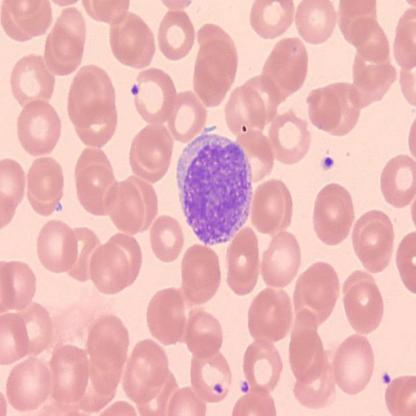Promyelocyte: (177, 132, 253, 246)
